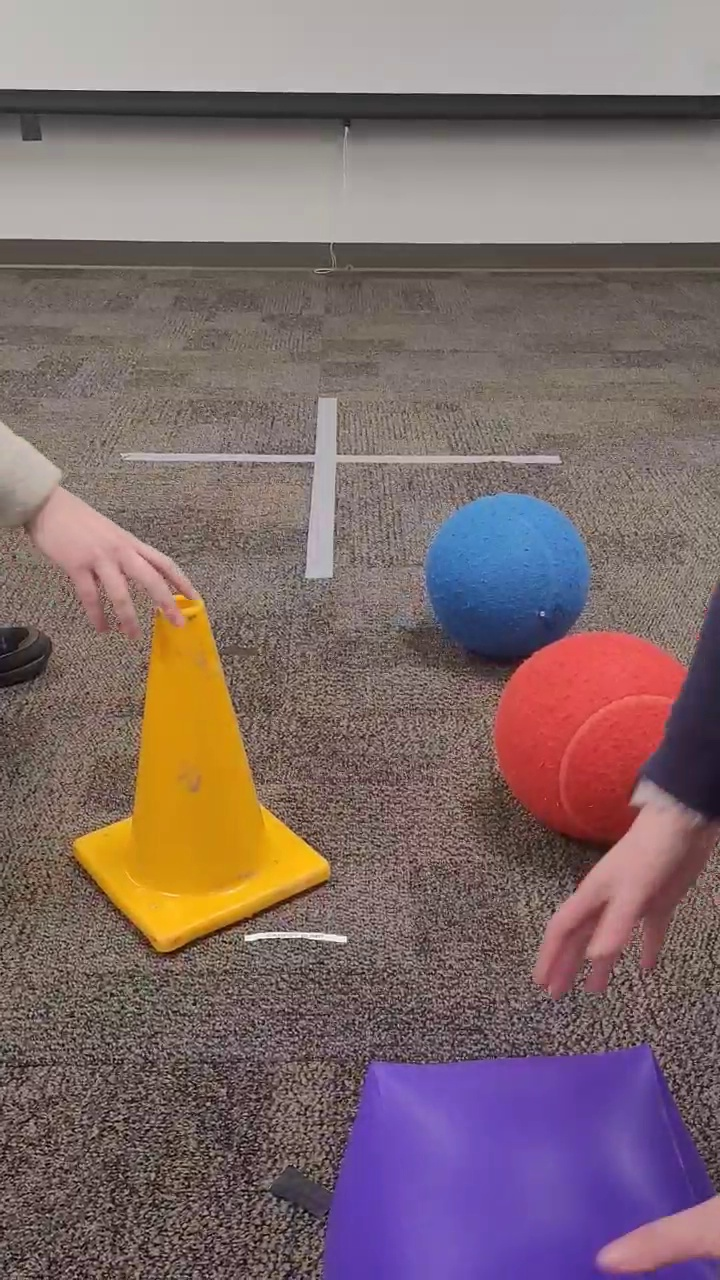ball: (494, 629, 689, 839), (418, 490, 593, 659)
cone: (70, 586, 339, 960)
cube: (319, 1041, 720, 1276)
foot: (1, 617, 57, 695)
hand: (523, 570, 720, 1004), (1, 415, 201, 646), (592, 1189, 718, 1276)
